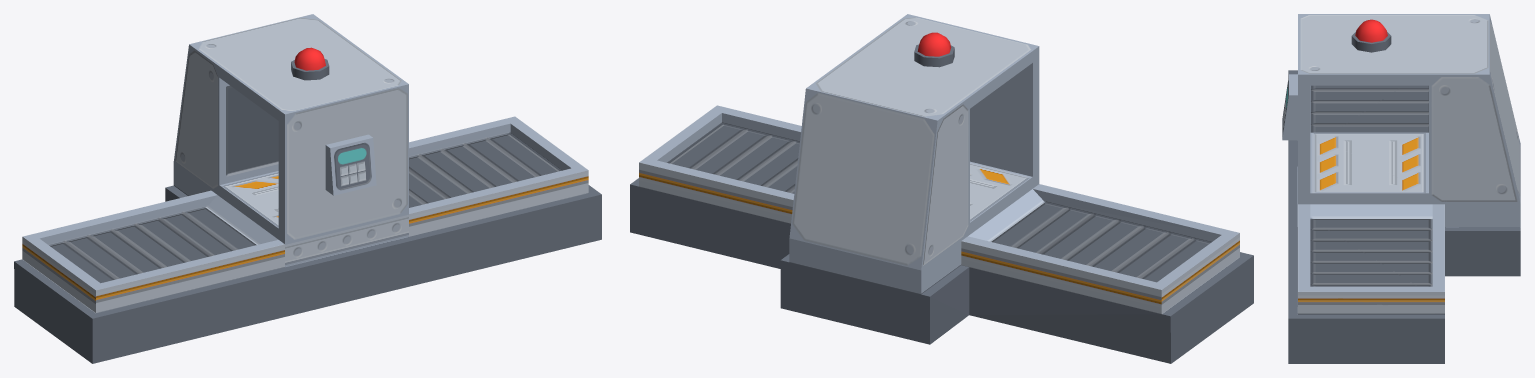
Rendered from Envi13.dae.
3 renders of one model, left to right at view 1: azimuth 30°, elevation 25°; view 2: azimuth 150°, elevation 25°; view 3: azimuth 270°, elevation 25°, orthographic. The views are drawn at different scales.
Visible parts, largest first — view 1: Circle.006; view 2: Circle.006; view 3: Circle.006.
Part boxes in pixels (box(x1,y1,x2,y2)): Circle.006: box(14, 14, 601, 363); Circle.006: box(630, 14, 1253, 363); Circle.006: box(1282, 14, 1520, 363).
Bounding box in the file's own units: 7.06 × 2.86 × 2.93.
